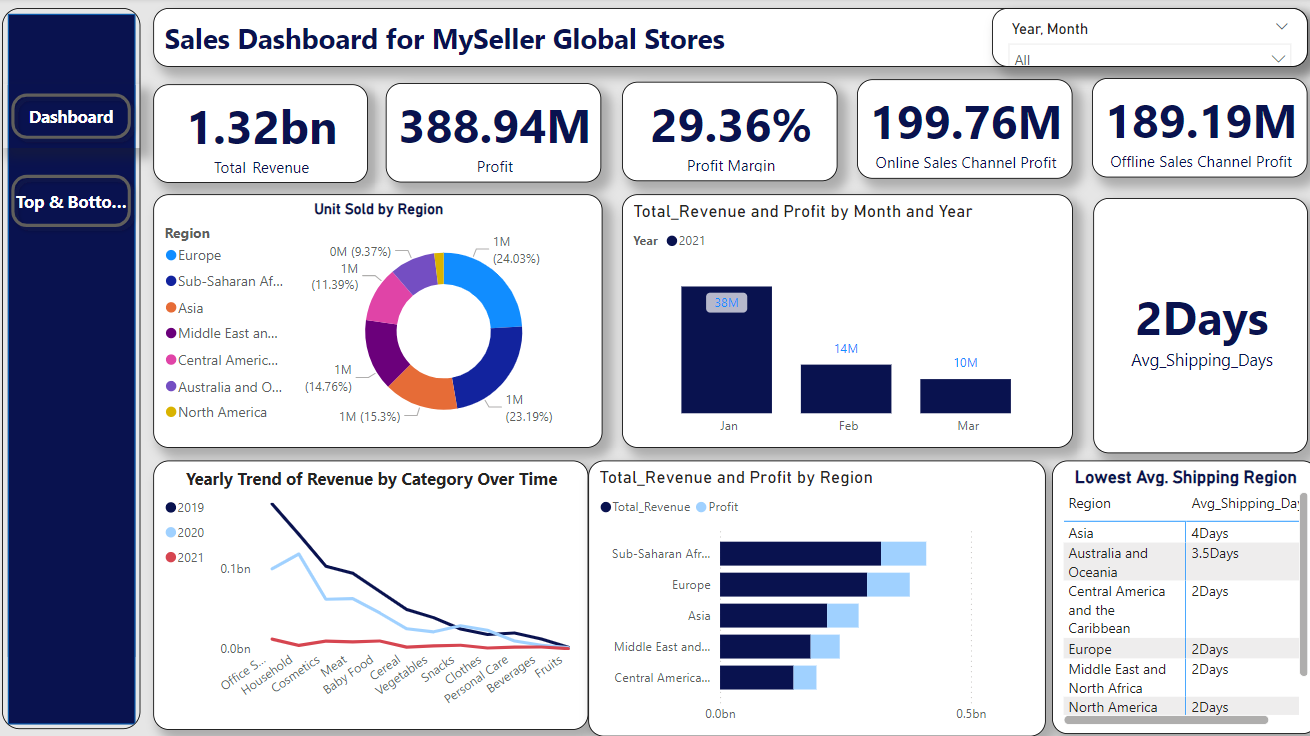

This screenshot's page, from the dashboard's own definition file:
{"tool":"powerbi","page":{"name":"Dashboard ","canvas":[1280,720],"ordinal":0},"visuals":[{"type":"shape","title":"Shape","box":[9.9,9.9,133.2,695.9],"z":0},{"type":"card","fields":{"Values":["DAX Measures.Total_Revenue"]},"box":[155.9,83.7,206.9,95],"z":0,"group":"g1"},{"type":"textbox","box":[155.9,9.9,1114,56.7],"z":1000},{"type":"card","fields":{"Values":["DAX Measures.% Profit Margin"]},"box":[607.8,80.6,208.3,96.4],"z":1000,"group":"g1"},{"type":"slicer","fields":{"Values":["Calender.Year","Calender.Month"]},"box":[965.2,9.9,304.7,56.7],"z":2000},{"type":"card","fields":{"Values":["DAX Measures.Profit_SalesChannel_Online"]},"box":[834.8,78.9,208,96.4],"z":2000,"group":"g1"},{"type":"card","fields":{"Values":["DAX Measures.Profit_SalesChannel_Offline"]},"box":[1061.6,77.3,208.3,96.4],"z":3000,"group":"g1"},{"type":"actionButton","title":"Button","box":[10,83.3,133.3,61.7],"z":3000},{"type":"card","fields":{"Values":["DAX Measures.Profit"]},"box":[380.7,82.2,208.3,96.4],"z":4000,"group":"g1"},{"type":"actionButton","box":[10,161.7,133.3,68.3],"z":4000},{"type":"group","id":"g1","title":"Group 1","box":[155.9,77.3,1124,635.5],"z":5000},{"type":"donutChart","title":"Unit Sold by Region","fields":{"Category":["Geograpghy.Region"],"Y":["DAX Measures.Total Unit_sold"]},"box":[155.9,190,433.7,245.2],"z":5000,"group":"g1"},{"type":"lineChart","title":"Yearly Trend of Revenue by Category Over Time","fields":{"Category":["Orders.Category"],"Series":["Calender.Year"],"Y":["DAX Measures.Total_Revenue"]},"box":[156,446.3,419.8,259.7],"z":6000,"group":"g1"},{"type":"lineClusteredColumnComboChart","fields":{"Category":["Calender.Month"],"Series":["Calender.Year"],"Y":["DAX Measures.Total_Revenue"]},"box":[608,190,435.1,245.2],"z":7000,"group":"g1"},{"type":"barChart","fields":{"Category":["Geograpghy.Region"],"Y":["DAX Measures.Total_Revenue","DAX Measures.Profit"]},"box":[575.9,446.1,441.6,266.6],"z":8000,"group":"g1"},{"type":"card","title":"Card","fields":{"Values":["DAX Measures.Avg_Shipping_Days"]},"box":[1063.3,192.8,207.5,246.1],"z":9000,"group":"g1"},{"type":"pivotTable","title":"Lowest Avg. Shipping Region","fields":{"Rows":["Geograpghy.Region"],"Values":["DAX Measures.Avg_Shipping_Days"]},"box":[1023.1,446.3,256.8,264],"z":10000,"group":"g1"}]}

Visuals, with their boxes on the page's 1280x720 design canvas (x1, y1, x2, y2). These are canvas units, not pixel positions in the 1310x736 screenshot, which may show the page scaled, cropped or inside an application window:
"Shape" shape: bbox(10, 10, 143, 706)
card - DAX Measures.Total_Revenue: bbox(156, 84, 363, 179)
textbox: bbox(156, 10, 1270, 67)
card - DAX Measures.% Profit Margin: bbox(608, 81, 816, 177)
slicer - Calender.Year x Calender.Month: bbox(965, 10, 1270, 67)
card - DAX Measures.Profit_SalesChannel_Online: bbox(835, 79, 1043, 175)
card - DAX Measures.Profit_SalesChannel_Offline: bbox(1062, 77, 1270, 174)
"Button" actionButton: bbox(10, 83, 143, 145)
card - DAX Measures.Profit: bbox(381, 82, 589, 179)
actionButton: bbox(10, 162, 143, 230)
"Group 1" group: bbox(156, 77, 1280, 713)
"Unit Sold by Region" donutChart: bbox(156, 190, 590, 435)
"Yearly Trend of Revenue by Category Over Time" lineChart: bbox(156, 446, 576, 706)
lineClusteredColumnComboChart - Calender.Month x Calender.Year: bbox(608, 190, 1043, 435)
barChart - Geograpghy.Region x DAX Measures.Total_Revenue: bbox(576, 446, 1018, 713)
"Card" card: bbox(1063, 193, 1271, 439)
"Lowest Avg. Shipping Region" pivotTable: bbox(1023, 446, 1280, 710)
